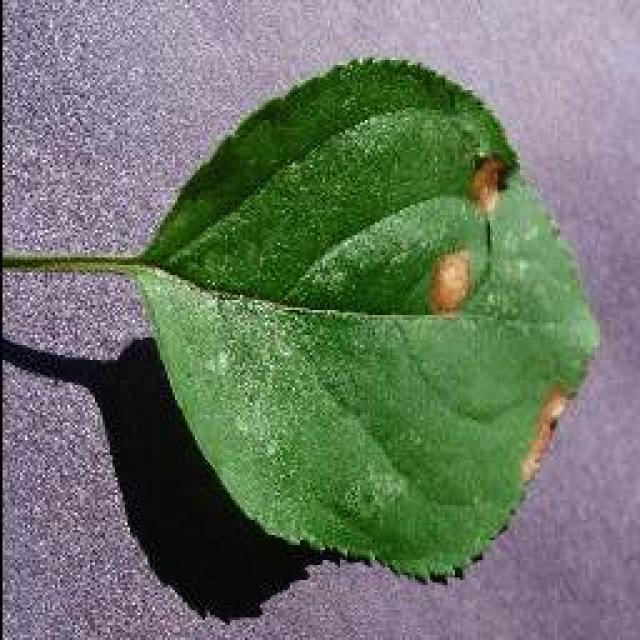Apple___Black_rot: (128, 53, 610, 588)
